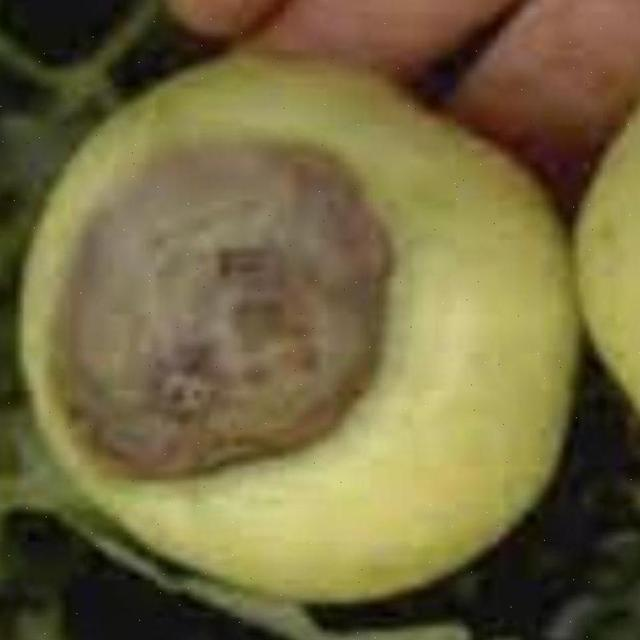Blossom End Rot Fruit: (27, 83, 265, 322)
